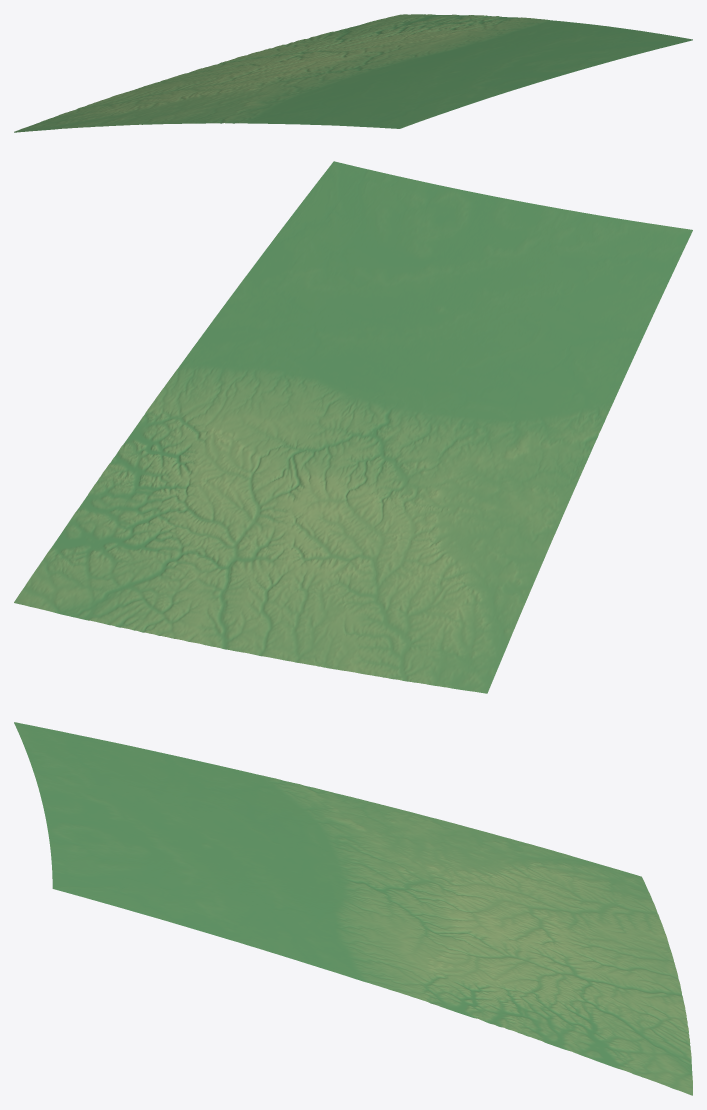
3 views of the same model, one above another, from view 1: azimuth 30°, elevation 25°; view 2: azimuth 150°, elevation 25°; view 3: azimuth 270°, elevation 25° (orthographic). The views are drawn at different scales.
Visible parts, largest first — view 1: geometry_0; view 2: geometry_0; view 3: geometry_0.
Boxes of the visible parts, x1=… form: geometry_0: x1=14, y1=14, x2=692, y2=132; geometry_0: x1=14, y1=161, x2=692, y2=693; geometry_0: x1=14, y1=722, x2=692, y2=1095.
Bounding box in the file's own units: 477566 × 212233 × 626773.
